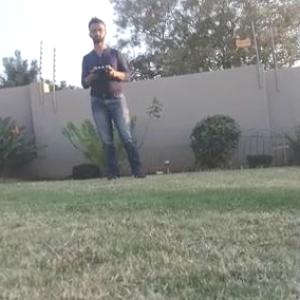follow: (78, 10, 153, 186)
